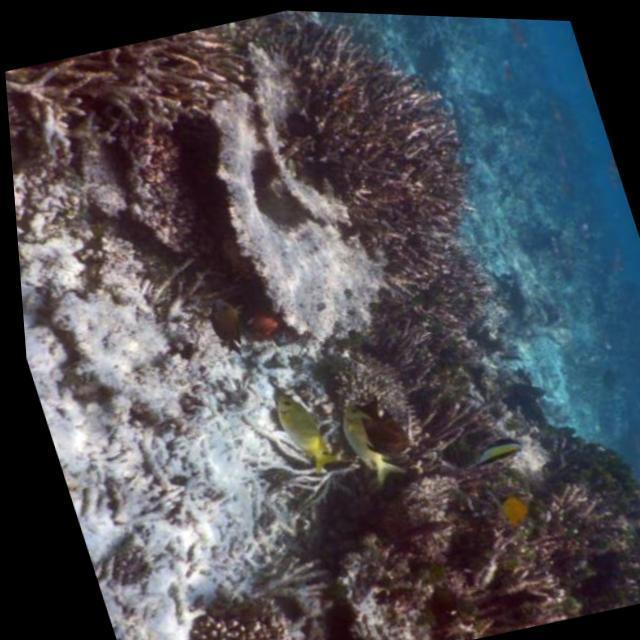Dead Coral: (228, 7, 539, 409), (363, 405, 640, 630), (1, 16, 251, 185), (42, 398, 226, 586), (254, 401, 363, 512)
